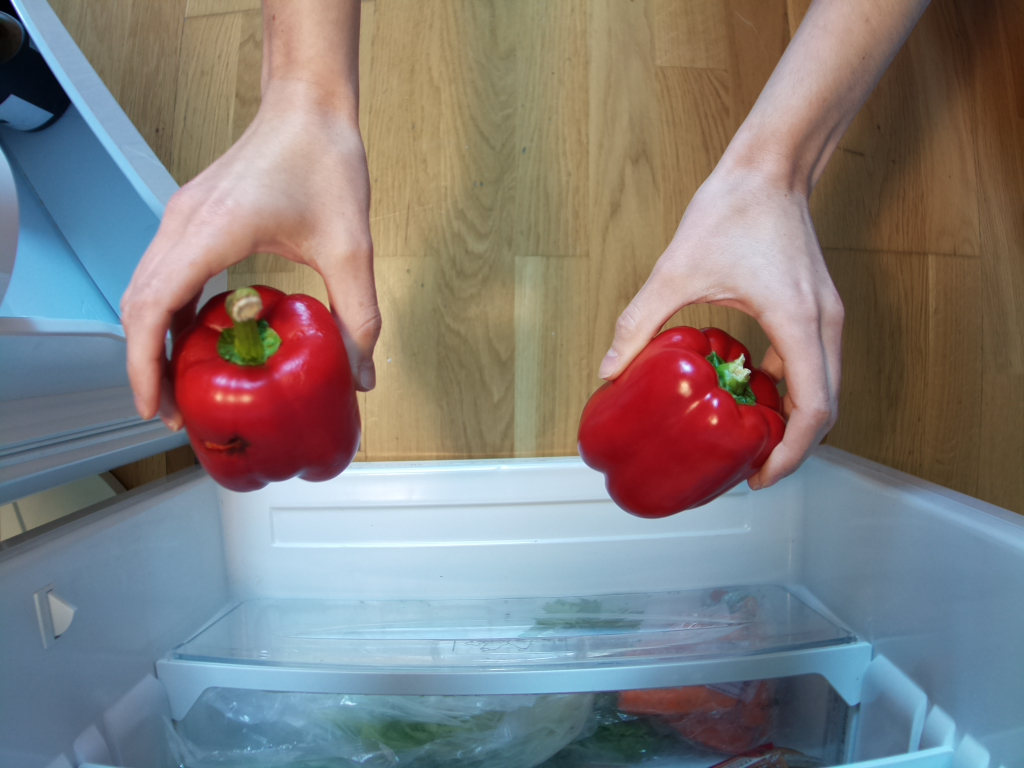pepper: (577, 325, 790, 520)
pepper-bad: (179, 285, 359, 492)
